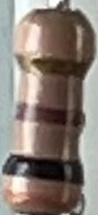Black: (3, 155, 83, 185)
Brown: (15, 101, 83, 128)
Orange: (3, 186, 82, 210)
Side-Gold: (15, 53, 91, 80)
